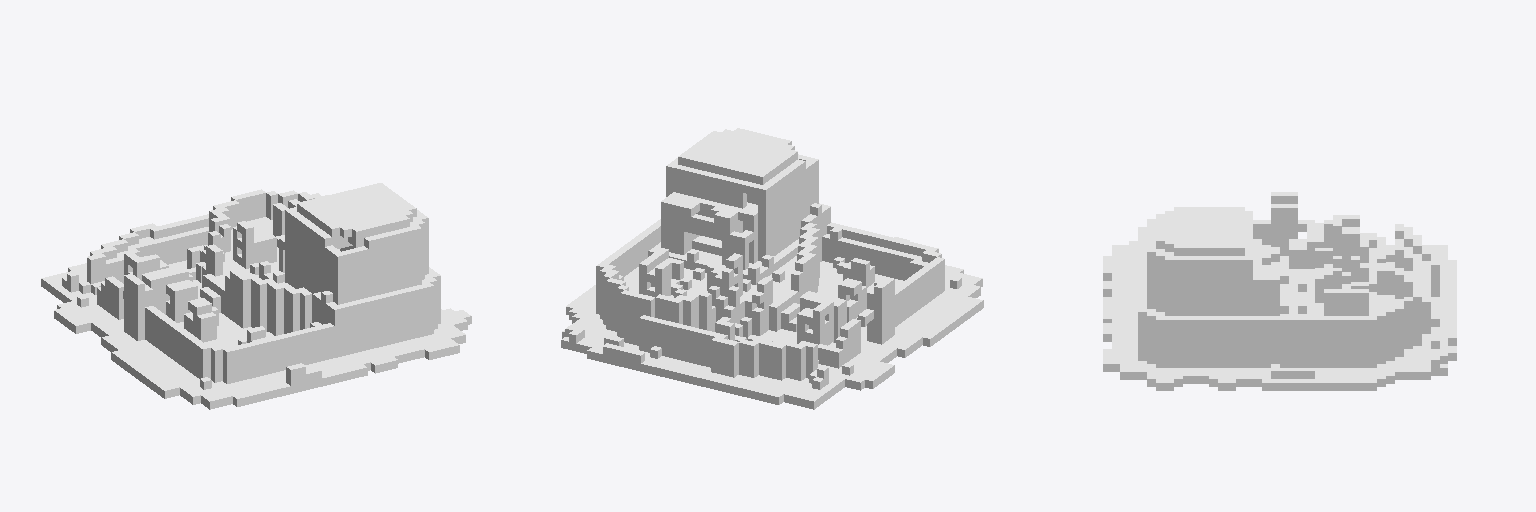
The model's file is Troya.obj.
3 renders of one model, left to right at view 1: azimuth 30°, elevation 25°; view 2: azimuth 150°, elevation 25°; view 3: azimuth 270°, elevation 25°, orthographic.
Parts seen in each view (by area): view 1: object 1; view 2: object 1; view 3: object 1.
Boxes of the visible parts, box(x1,y1,x2,y2) form: object 1: box(41, 183, 471, 409); object 1: box(561, 128, 983, 409); object 1: box(1103, 192, 1456, 390).
Size of the model in its own units: 4 by 1.5 by 4.